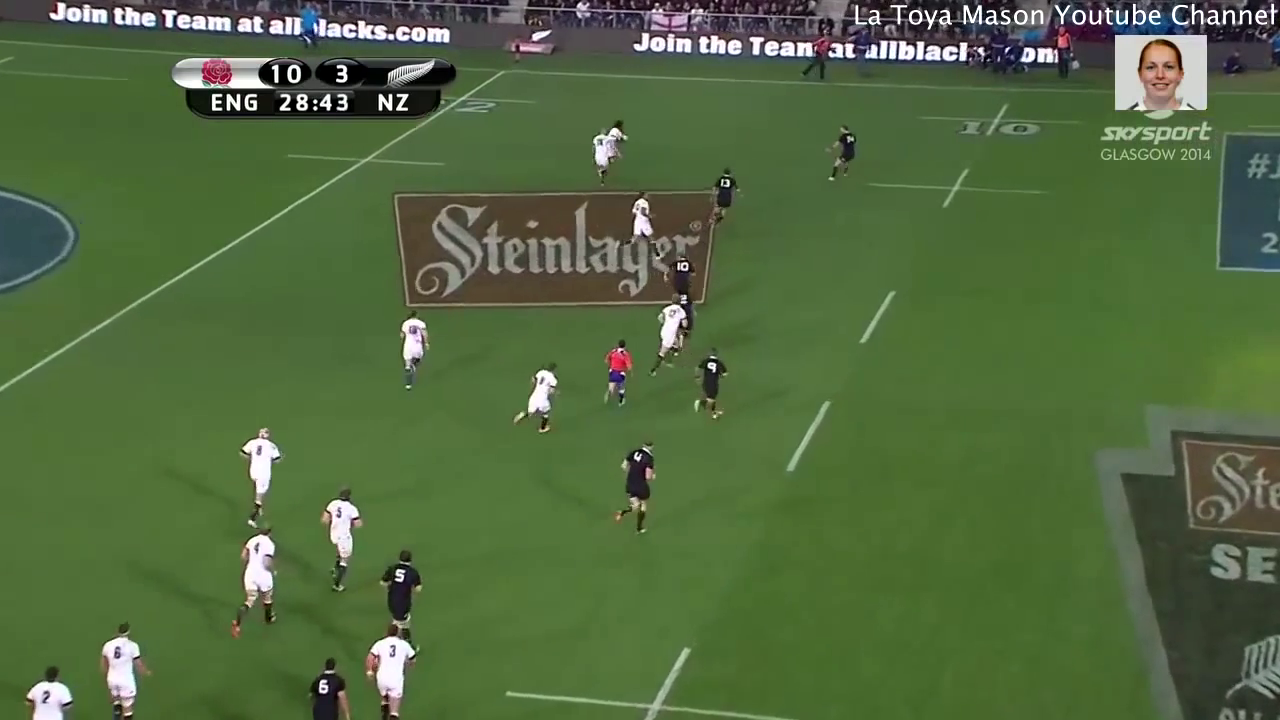10_metre: (491, 635, 824, 720), (862, 163, 1059, 214), (913, 98, 1087, 144)
player: (217, 519, 284, 639), (373, 541, 433, 662), (90, 614, 157, 720), (233, 419, 289, 532), (309, 481, 362, 599), (506, 353, 565, 453), (360, 622, 419, 720), (604, 434, 658, 541), (612, 180, 669, 265), (646, 290, 691, 379), (14, 662, 81, 720), (701, 161, 749, 239), (394, 305, 434, 398), (301, 654, 357, 720), (685, 342, 729, 425), (597, 334, 638, 414), (821, 123, 864, 190), (657, 244, 707, 292), (604, 111, 633, 173), (670, 289, 703, 342), (587, 124, 613, 190)
